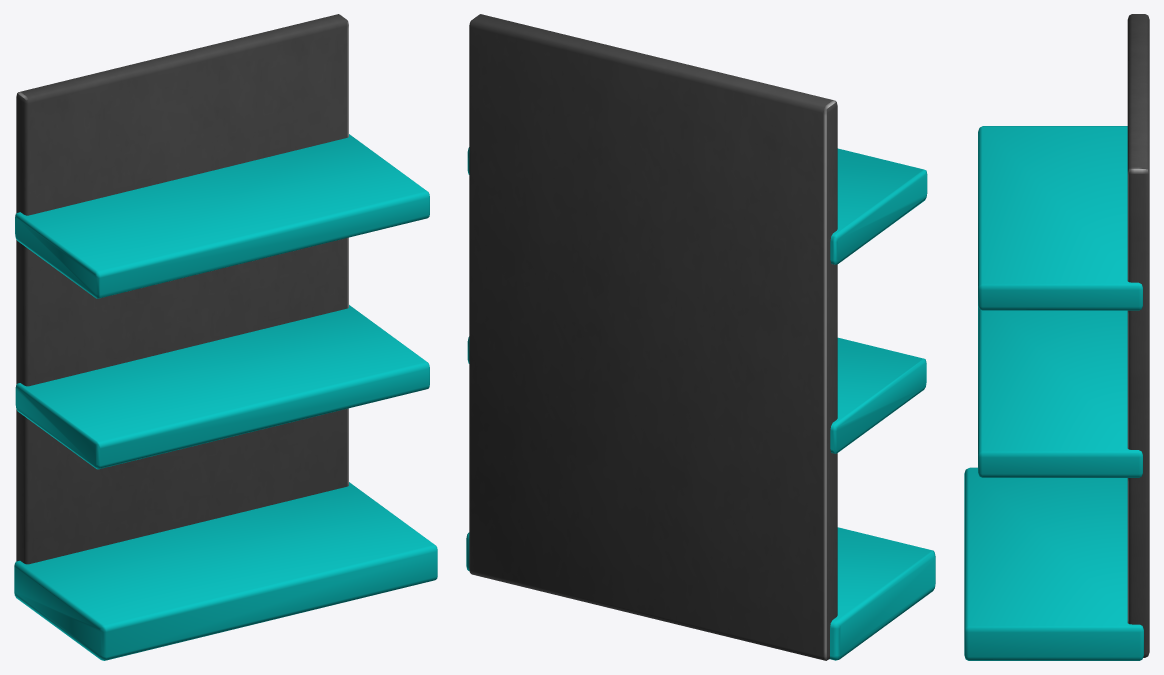
File: ScaffalePatatine.fbx
The picture shows the model from 3 angles, left to right: view 1: azimuth 30°, elevation 25°; view 2: azimuth 150°, elevation 25°; view 3: azimuth 270°, elevation 25°; orthographic projection. The views are drawn at different scales.
Parts seen in each view (by area): view 1: RepartoEmpty; view 2: RepartoEmpty; view 3: RepartoEmpty.
Boxes of the visible parts, x1,y1,x2,y2 form: RepartoEmpty: (14,14,437,660); RepartoEmpty: (466,14,935,660); RepartoEmpty: (964,14,1149,660).
Size of the model in its own units: 199 by 284 by 97.04.
